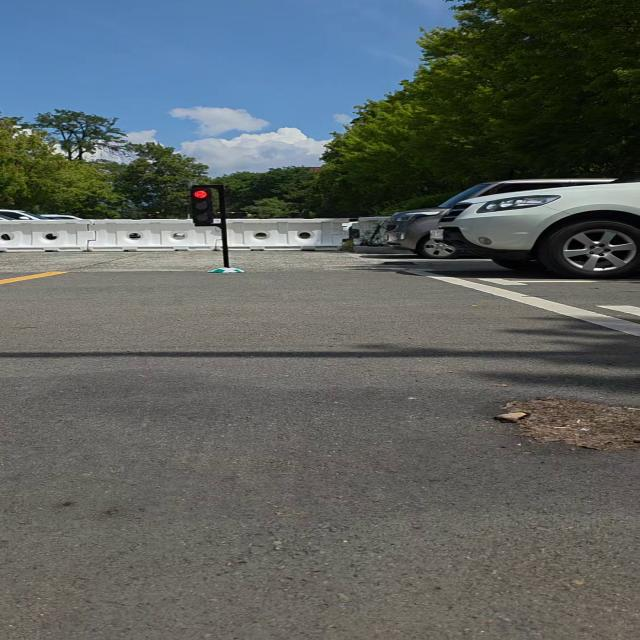red: (188, 188, 222, 225)
